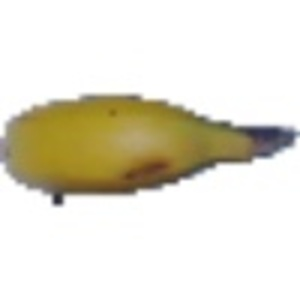banana: (1, 84, 295, 196)
